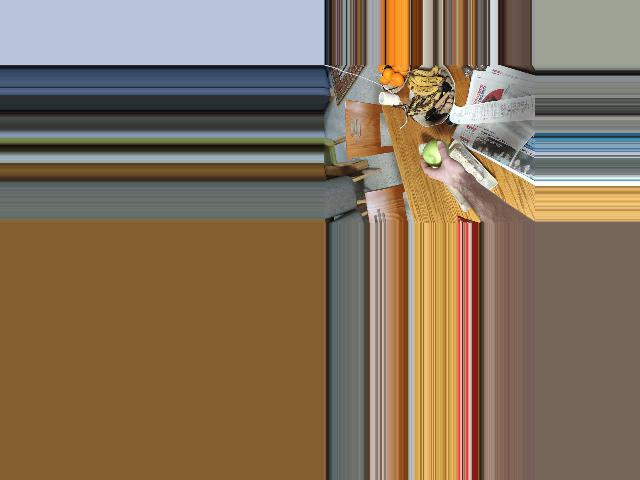apple: (421, 139, 451, 168)
